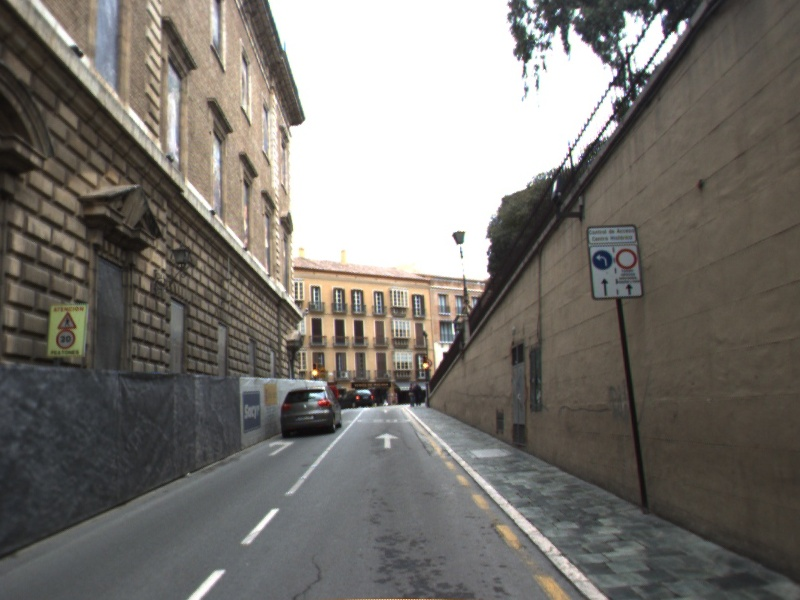LEFT: (266, 438, 297, 458)
STRAIGHT: (373, 431, 402, 450)
